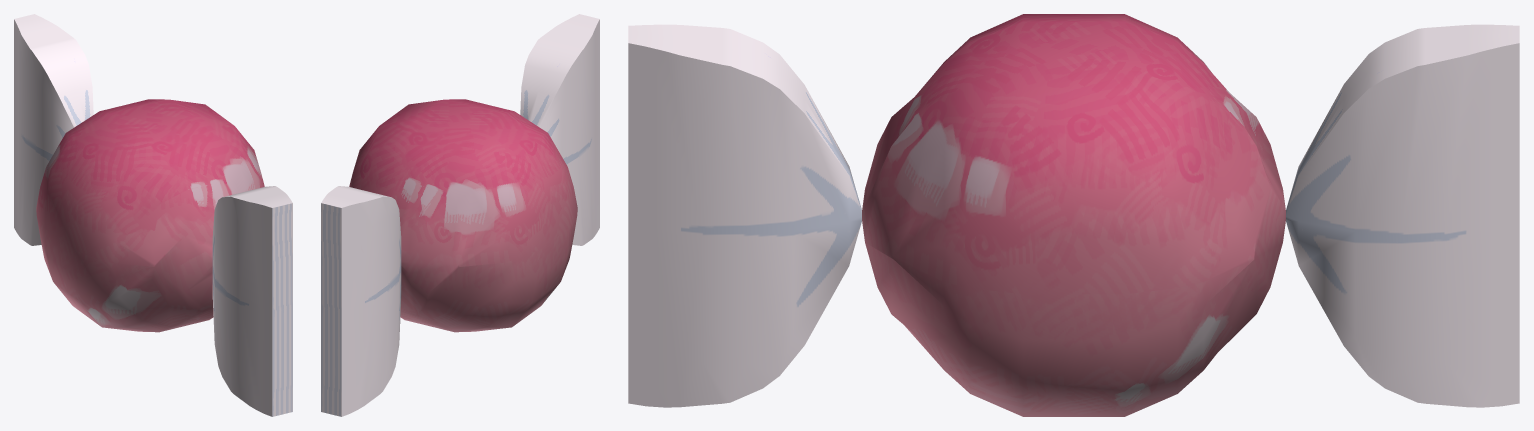
The model's file is WrappedCandy(3).fbx.
3 views of the same model, side by side, from view 1: azimuth 30°, elevation 25°; view 2: azimuth 150°, elevation 25°; view 3: azimuth 270°, elevation 25° (orthographic). The views are drawn at different scales.
Visible parts, largest first — view 1: Wrapped Candy; view 2: Wrapped Candy; view 3: Wrapped Candy.
Part boxes in pixels (x1=…): Wrapped Candy: x1=14, y1=14, x2=292, y2=416; Wrapped Candy: x1=321, y1=14, x2=599, y2=416; Wrapped Candy: x1=628, y1=14, x2=1519, y2=416.
Size of the model in its own units: 181 by 193 by 431.
